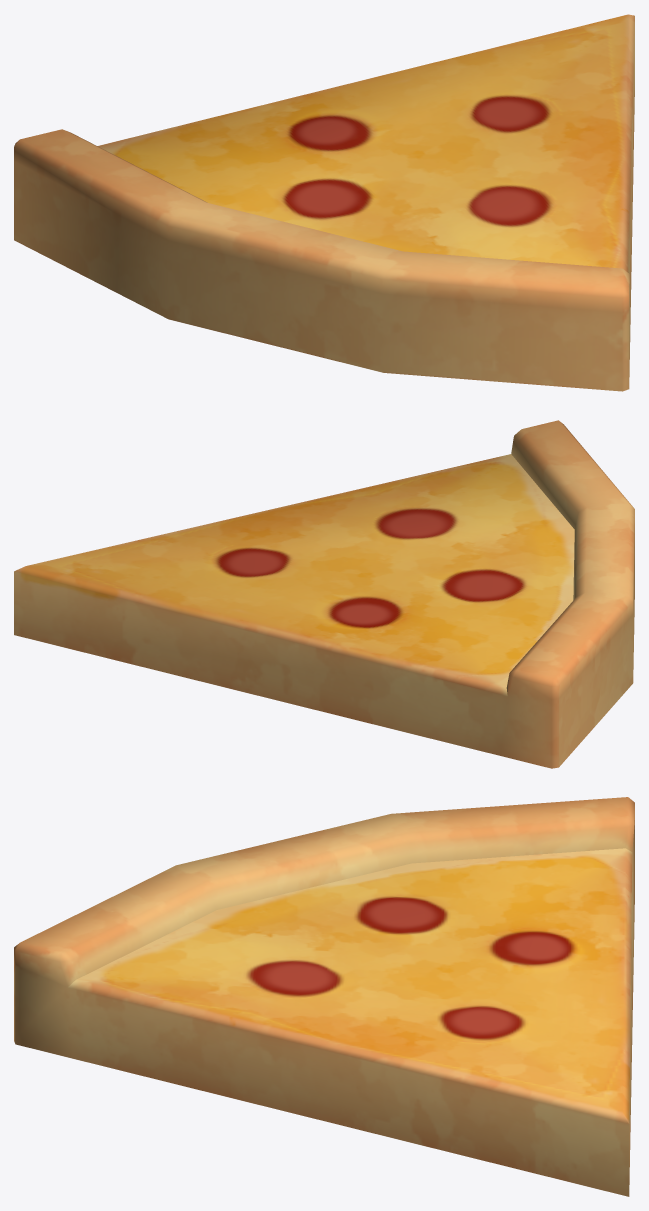
Rendered from PizzaSlice1.fbx.
The picture shows the model from 3 angles, top to bottom: view 1: azimuth 30°, elevation 25°; view 2: azimuth 150°, elevation 25°; view 3: azimuth 270°, elevation 25°; orthographic projection. The views are drawn at different scales.
Visible parts, largest first — view 1: PizzaSlice1; view 2: PizzaSlice1; view 3: PizzaSlice1.
Part boxes in pixels (<box>): PizzaSlice1: <box>14,14,634,391</box>; PizzaSlice1: <box>14,420,634,768</box>; PizzaSlice1: <box>14,797,634,1196</box>.
Bounding box in the file's own units: 99.84 × 15.28 × 86.38.
Materials: 1 (1 with a texture image).
